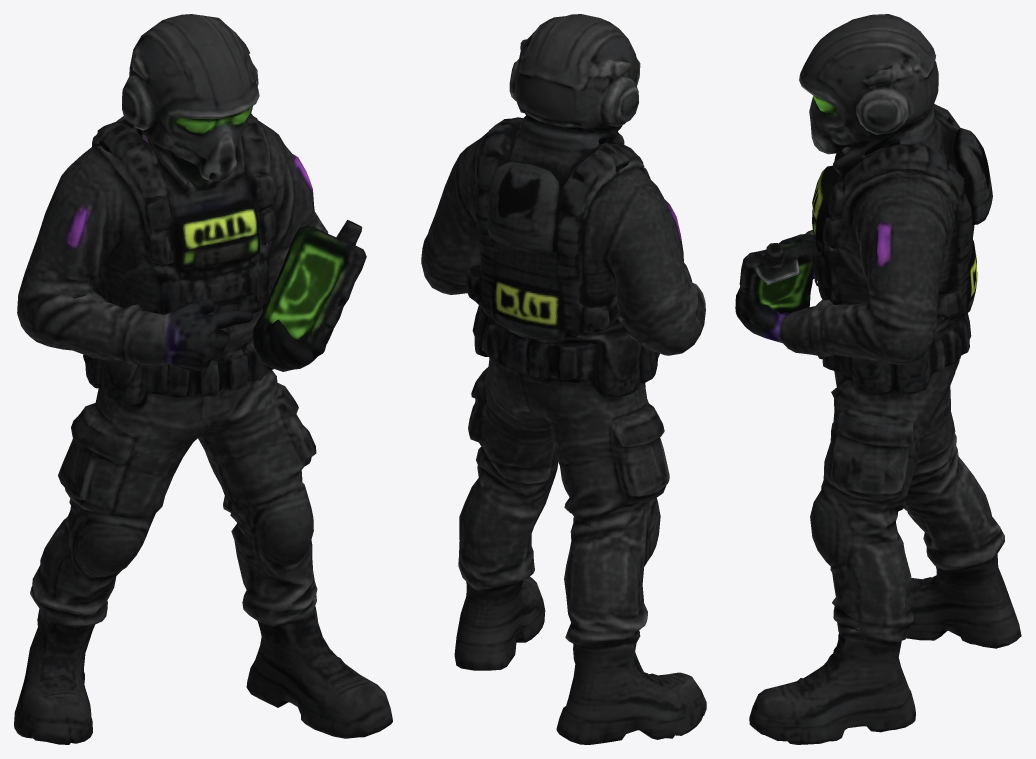
File: recon_l01.glb
3 views of the same model, side by side, from view 1: azimuth 30°, elevation 25°; view 2: azimuth 150°, elevation 25°; view 3: azimuth 270°, elevation 25° (orthographic). The views are drawn at different scales.
Parts seen in each view (by area): view 1: world; view 2: world; view 3: world.
Boxes of the visible parts, left/top/right/bottom form: world: left=14, top=14, right=392, bottom=744; world: left=421, top=14, right=706, bottom=744; world: left=735, top=14, right=1021, bottom=744.
Size of the model in its own units: 0.445 by 1 by 0.3953.
1 material, 1 textured.
